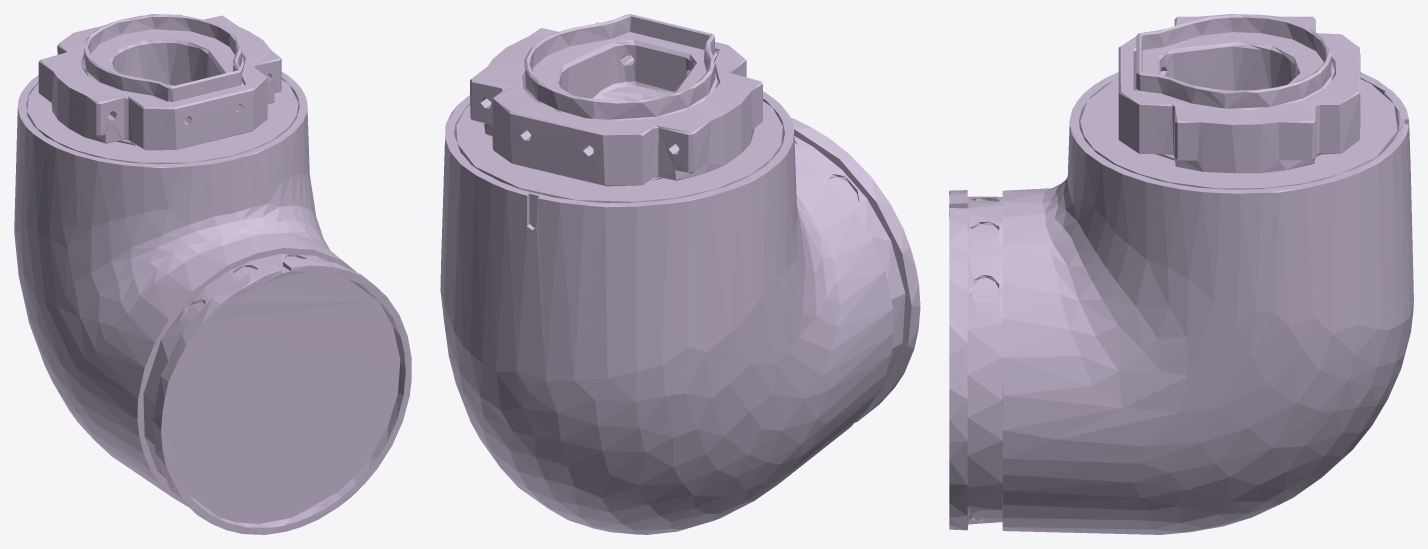
The model's file is MyCobot320Link4.dae.
3 views of the same model, side by side, from view 1: azimuth 30°, elevation 25°; view 2: azimuth 150°, elevation 25°; view 3: azimuth 270°, elevation 25° (orthographic). The views are drawn at different scales.
Parts seen in each view (by area): view 1: MyCobot320Link4; view 2: MyCobot320Link4; view 3: MyCobot320Link4.
Boxes of the visible parts, x1=… form: MyCobot320Link4: x1=14, y1=14, x2=411, y2=534; MyCobot320Link4: x1=440, y1=14, x2=920, y2=534; MyCobot320Link4: x1=949, y1=14, x2=1413, y2=534.
Size of the model in its own units: 0.0593 by 0.0796 by 0.088.
